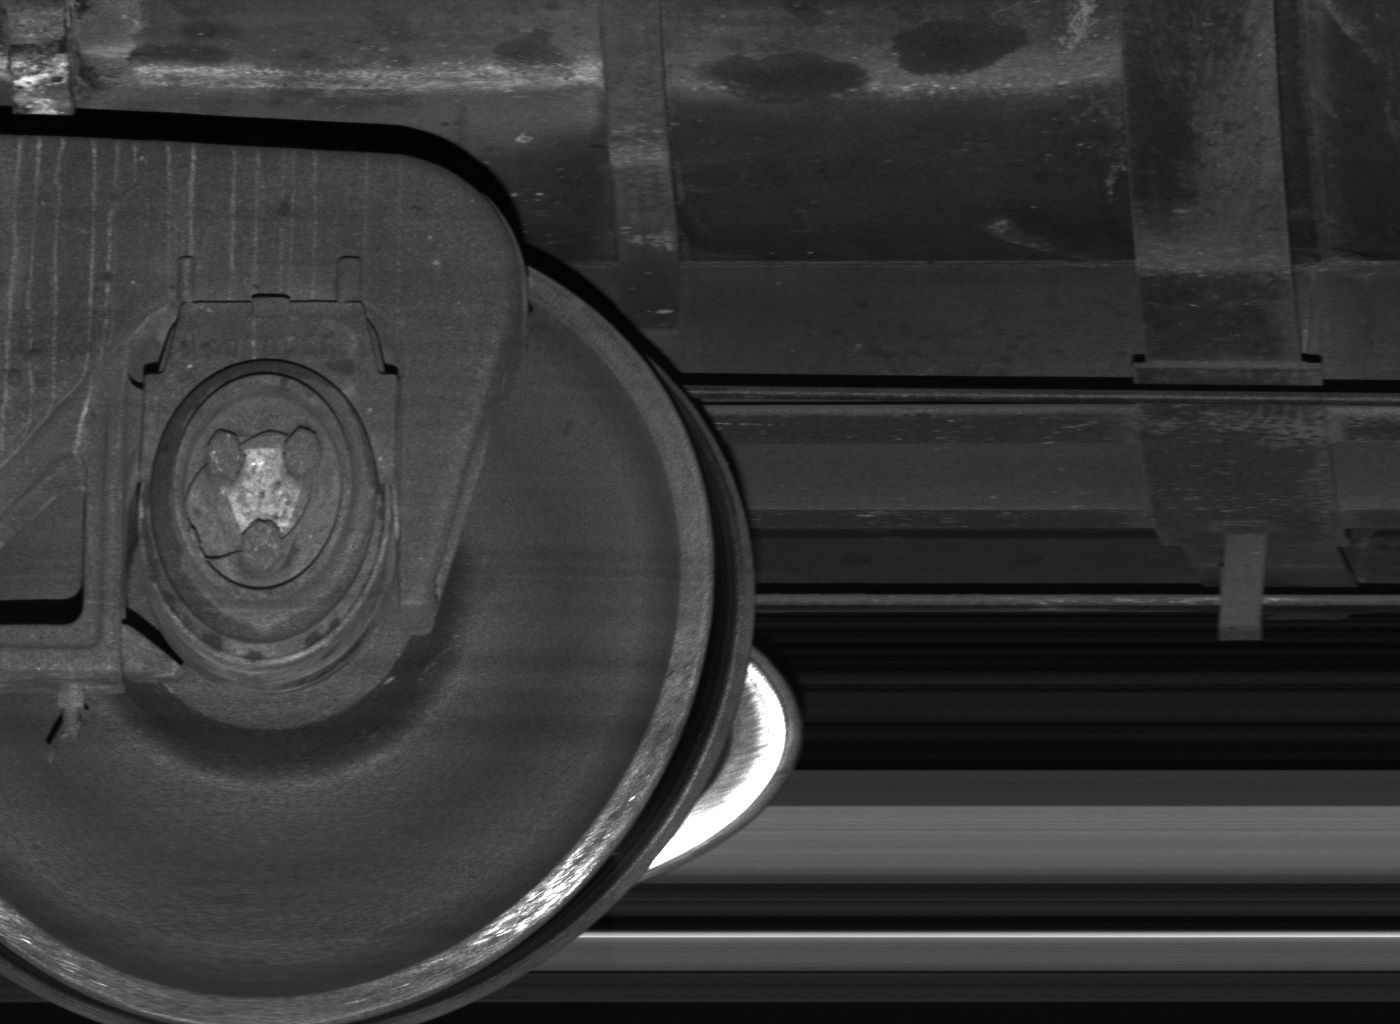normal: (1217, 530, 1267, 641)
